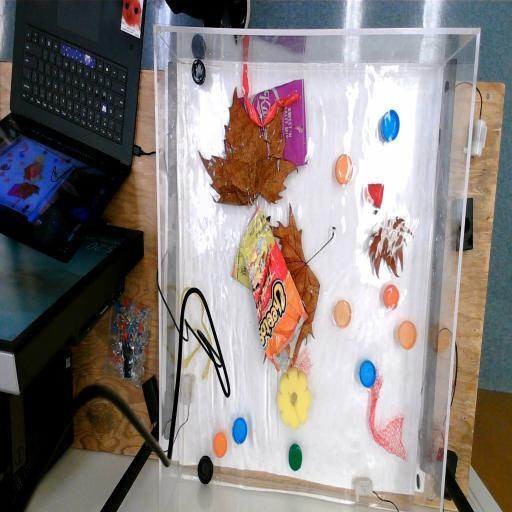Bottle Cap: (381, 108, 401, 142), (335, 152, 353, 186), (398, 319, 417, 350), (334, 298, 352, 330), (198, 454, 214, 486), (360, 358, 376, 388), (383, 283, 400, 310), (288, 442, 303, 472), (232, 416, 248, 444), (212, 432, 228, 458), (191, 58, 206, 85)
Cone Cap: (362, 181, 386, 210)
Leaf: (261, 202, 337, 368), (196, 88, 298, 208), (368, 209, 414, 280)
Netting: (367, 364, 408, 462), (284, 344, 312, 379)
Plastic Bag: (231, 201, 309, 372), (234, 76, 308, 166)
Plastic Strand: (242, 63, 301, 127), (178, 286, 213, 382)
Sponge: (276, 366, 312, 430)
